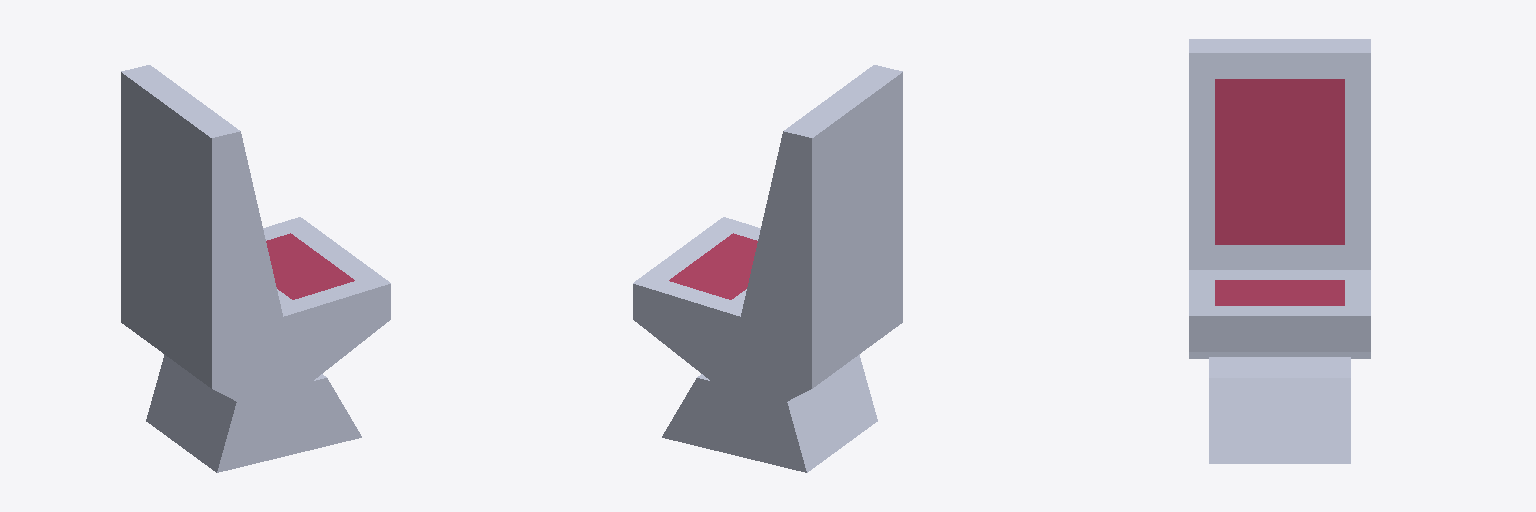
The model's file is spaceInterior_023.obj.
3 views of the same model, side by side, from view 1: azimuth 30°, elevation 25°; view 2: azimuth 150°, elevation 25°; view 3: azimuth 270°, elevation 25° (orthographic).
Parts seen in each view (by area): view 1: Mesh1 Group1 Model; view 2: Mesh1 Group1 Model; view 3: Mesh1 Group1 Model.
Part boxes in pixels (bbox=[...]): Mesh1 Group1 Model: bbox=[121, 65, 390, 472]; Mesh1 Group1 Model: bbox=[633, 65, 902, 472]; Mesh1 Group1 Model: bbox=[1189, 39, 1370, 463].
Size of the model in its own units: 0.2911 by 0.5348 by 0.2553.